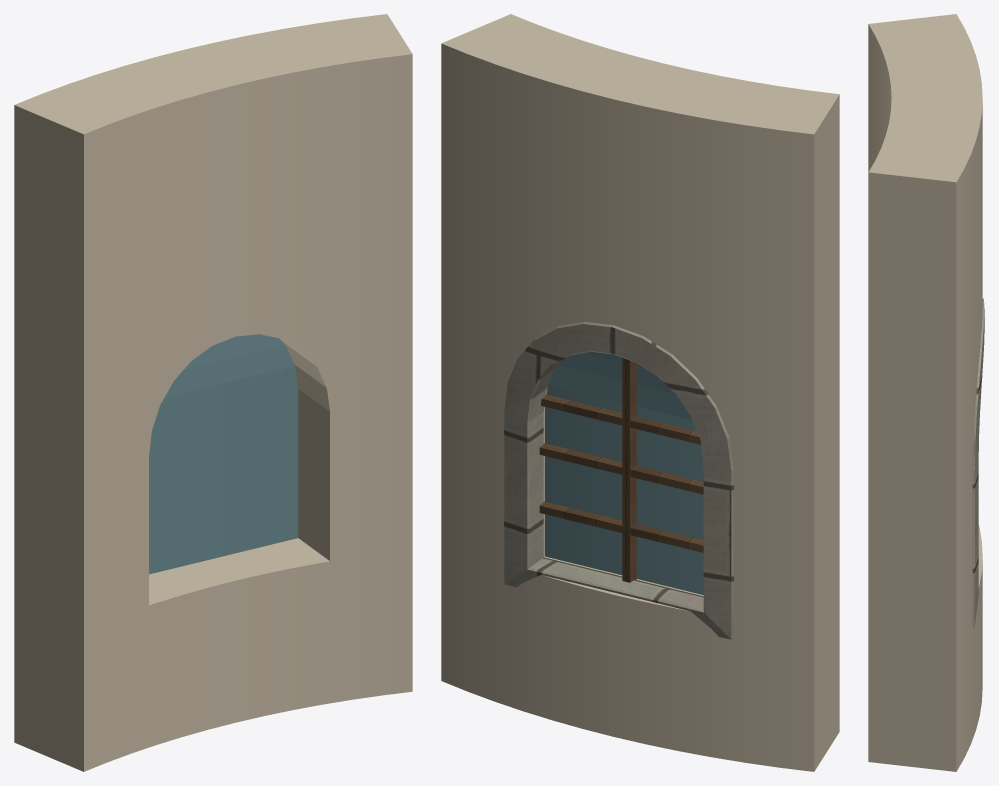
Rendered from Furn_Tower3_R35_Window.fbx.
3 renders of one model, left to right at view 1: azimuth 30°, elevation 25°; view 2: azimuth 150°, elevation 25°; view 3: azimuth 270°, elevation 25°, orthographic. The views are drawn at different scales.
Visible parts, largest first — view 1: Furn_Tower3_R35_Window; view 2: Furn_Tower3_R35_Window; view 3: Furn_Tower3_R35_Window.
Part boxes in pixels (x1,y1,x2,y2): Furn_Tower3_R35_Window: (14,14,412,771); Furn_Tower3_R35_Window: (441,14,839,771); Furn_Tower3_R35_Window: (868,14,984,771).
Size of the model in its own units: 2.14 by 3.5 by 0.6244.
